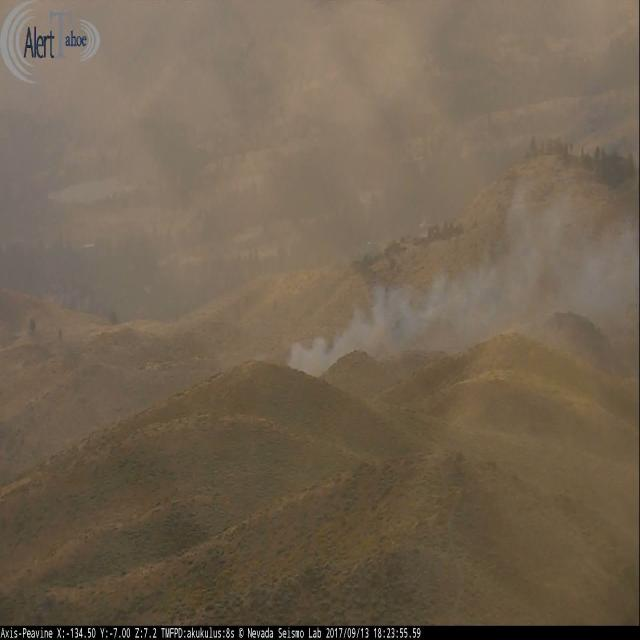smoke: (282, 185, 639, 373)
